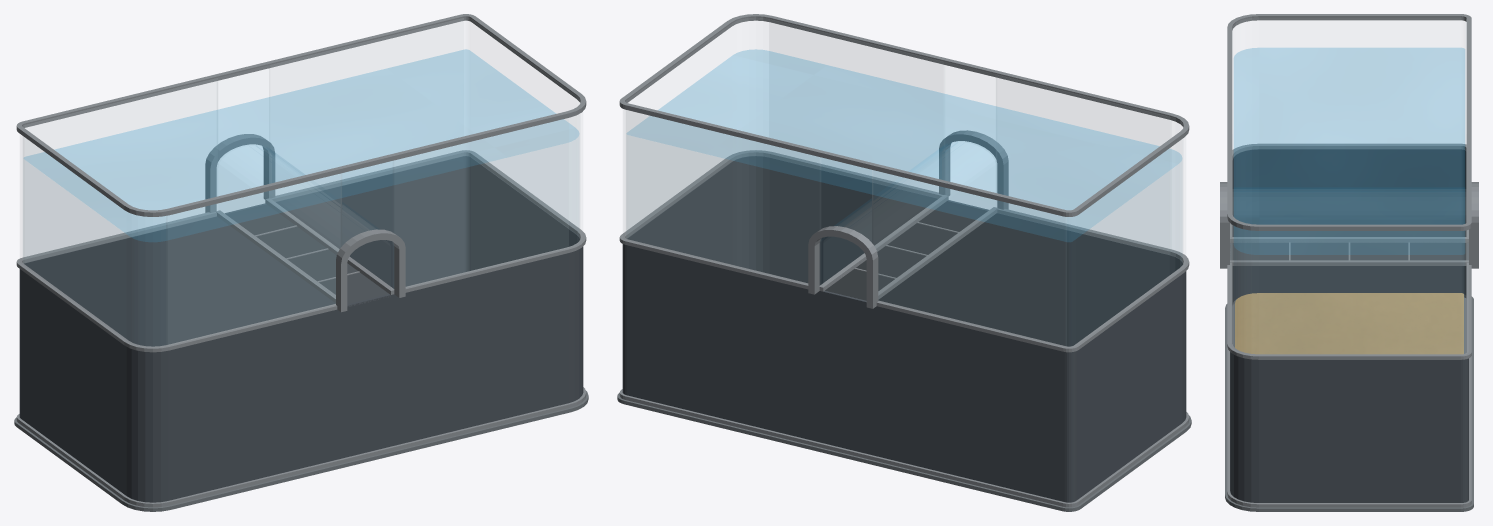
Rendered from aquarium_3.glb.
The picture shows the model from 3 angles, left to right: view 1: azimuth 30°, elevation 25°; view 2: azimuth 150°, elevation 25°; view 3: azimuth 270°, elevation 25°; orthographic projection. The views are drawn at different scales.
Visible parts, largest first — view 1: STRUCTURE_SubFloorBody, GLASS_AcrylicShell, WATER_Surface, STRUCTURE_TopRim, STRUCTURE_FloorRim, STRUCTURE_BottomRim, STRUCTURE_BasePlinth, PASSAGE_passage_mrhbwz4z_bun0k_01_EntranceFrame, PASSAGE_passage_mrhbwz4z_bun0k_02_ExitFrame, PASSAGE_passage_mrhbwz4z_bun0k_SideRim_01, PASSAGE_passage_mrhbwz4z_bun0k_SideRim_02, PASSAGE_passage_mrhbwz4z_bun0k_AcrylicShell; view 2: STRUCTURE_SubFloorBody, GLASS_AcrylicShell, WATER_Surface, STRUCTURE_TopRim, STRUCTURE_FloorRim, STRUCTURE_BottomRim, STRUCTURE_BasePlinth, PASSAGE_passage_mrhbwz4z_bun0k_02_ExitFrame, PASSAGE_passage_mrhbwz4z_bun0k_01_EntranceFrame, PASSAGE_passage_mrhbwz4z_bun0k_SideRim_01, PASSAGE_passage_mrhbwz4z_bun0k_SideRim_02, PASSAGE_passage_mrhbwz4z_bun0k_AcrylicShell; view 3: STRUCTURE_SubFloorBody, WATER_Surface, INTERIOR_GroundSurface, PASSAGE_passage_mrhbwz4z_bun0k_AcrylicShell, STRUCTURE_TopRim, STRUCTURE_FloorRim, STRUCTURE_BasePlinth, STRUCTURE_BottomRim, PASSAGE_passage_mrhbwz4z_bun0k_SideRim_01, PASSAGE_passage_mrhbwz4z_bun0k_SideRim_02, PASSAGE_passage_mrhbwz4z_bun0k_01_EntranceFrame, PASSAGE_passage_mrhbwz4z_bun0k_02_ExitFrame (+1 smaller).
Boxes of the visible parts, <box> form: STRUCTURE_SubFloorBody: <box>19,156,583,502</box>; GLASS_AcrylicShell: <box>22,18,580,345</box>; WATER_Surface: <box>24,49,578,241</box>; STRUCTURE_TopRim: <box>16,14,586,216</box>; STRUCTURE_FloorRim: <box>16,150,586,352</box>; STRUCTURE_BottomRim: <box>16,387,586,507</box>; STRUCTURE_BasePlinth: <box>14,390,588,511</box>; PASSAGE_passage_mrhbwz4z_bun0k_01_EntranceFrame: <box>336,229,405,312</box>; PASSAGE_passage_mrhbwz4z_bun0k_02_ExitFrame: <box>205,134,275,212</box>; PASSAGE_passage_mrhbwz4z_bun0k_SideRim_01: <box>216,210,335,303</box>; PASSAGE_passage_mrhbwz4z_bun0k_SideRim_02: <box>265,198,394,294</box>; PASSAGE_passage_mrhbwz4z_bun0k_AcrylicShell: <box>265,153,368,243</box>; STRUCTURE_SubFloorBody: <box>622,156,1186,502</box>; GLASS_AcrylicShell: <box>625,20,1183,346</box>; WATER_Surface: <box>627,49,1181,241</box>; STRUCTURE_TopRim: <box>619,14,1189,216</box>; STRUCTURE_FloorRim: <box>619,150,1189,352</box>; STRUCTURE_BottomRim: <box>619,389,1189,507</box>; STRUCTURE_BasePlinth: <box>617,393,1191,511</box>; PASSAGE_passage_mrhbwz4z_bun0k_02_ExitFrame: <box>808,226,878,308</box>; PASSAGE_passage_mrhbwz4z_bun0k_01_EntranceFrame: <box>939,130,1008,209</box>; PASSAGE_passage_mrhbwz4z_bun0k_SideRim_01: <box>878,207,997,299</box>; PASSAGE_passage_mrhbwz4z_bun0k_SideRim_02: <box>819,195,948,291</box>; PASSAGE_passage_mrhbwz4z_bun0k_AcrylicShell: <box>844,151,947,241</box>; STRUCTURE_SubFloorBody: <box>1230,149,1468,502</box>; WATER_Surface: <box>1234,48,1464,254</box>; INTERIOR_GroundSurface: <box>1235,293,1463,354</box>; PASSAGE_passage_mrhbwz4z_bun0k_AcrylicShell: <box>1230,192,1468,241</box>; STRUCTURE_TopRim: <box>1227,14,1471,230</box>; STRUCTURE_FloorRim: <box>1227,143,1471,359</box>; STRUCTURE_BasePlinth: <box>1225,296,1473,511</box>; STRUCTURE_BottomRim: <box>1227,294,1471,507</box>; PASSAGE_passage_mrhbwz4z_bun0k_SideRim_01: <box>1230,237,1468,242</box>; PASSAGE_passage_mrhbwz4z_bun0k_SideRim_02: <box>1230,260,1468,265</box>; PASSAGE_passage_mrhbwz4z_bun0k_01_EntranceFrame: <box>1220,182,1229,268</box>; PASSAGE_passage_mrhbwz4z_bun0k_02_ExitFrame: <box>1469,182,1478,268</box>.
Bounding box in the file's own units: 102 × 63 × 52.
19 materials, 3 textured.
